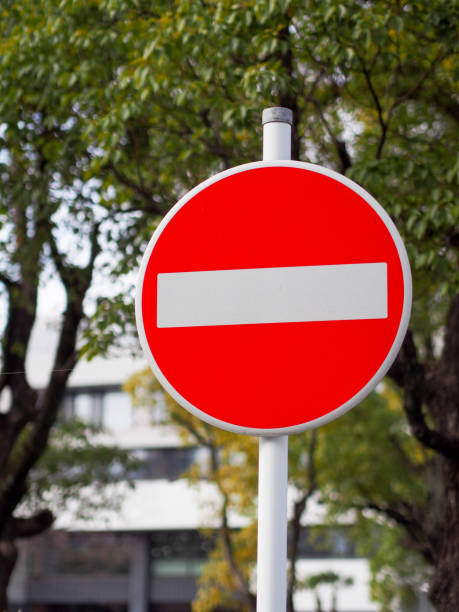Girilmez: (132, 161, 421, 436)
